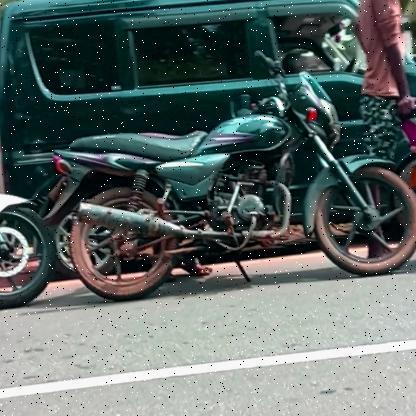motorcycle: (34, 49, 416, 310)
